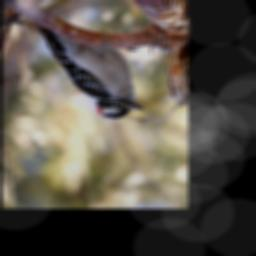Woodpecker: (35, 20, 145, 118)
